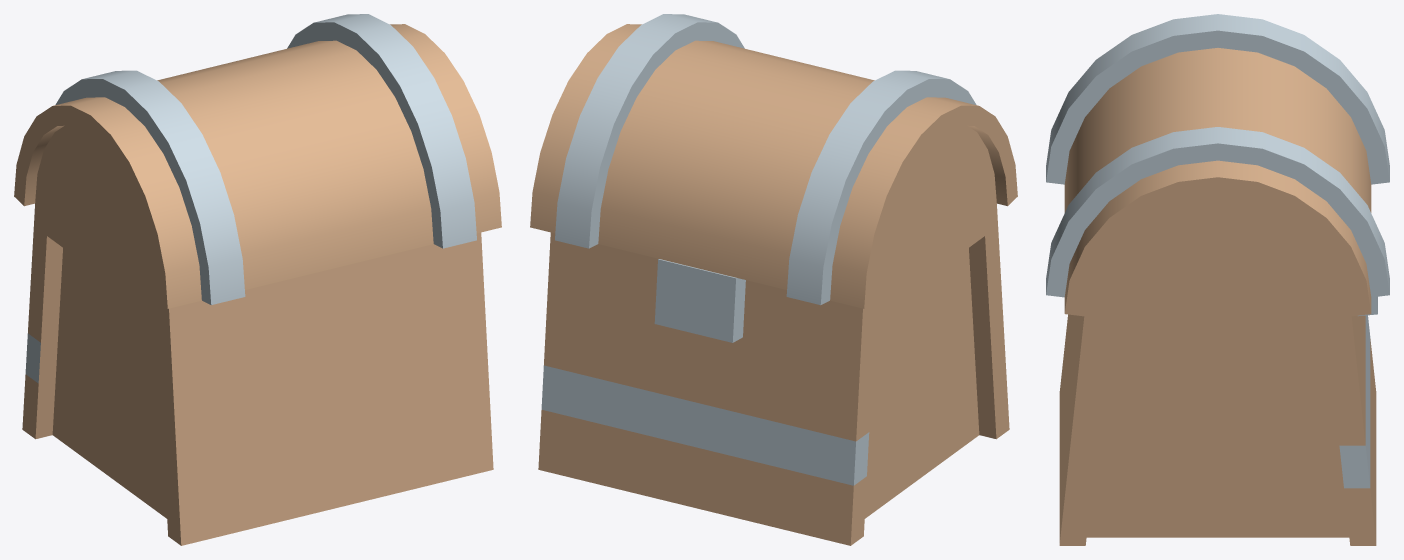
The picture shows the model from 3 angles, left to right: view 1: azimuth 30°, elevation 25°; view 2: azimuth 150°, elevation 25°; view 3: azimuth 270°, elevation 25°; orthographic projection.
Visible parts, largest first — view 1: chest, lid; view 2: chest, lid; view 3: lid, chest.
Part boxes in pixels (<box>): chest: <box>22,204,493,545</box>; lid: <box>14,14,501,308</box>; chest: <box>538,204,1009,545</box>; lid: <box>530,14,1017,308</box>; lid: <box>1046,14,1389,316</box>; chest: <box>1059,296,1377,545</box>.
Size of the model in its own units: 0.4896 by 0.5492 by 0.4375.
